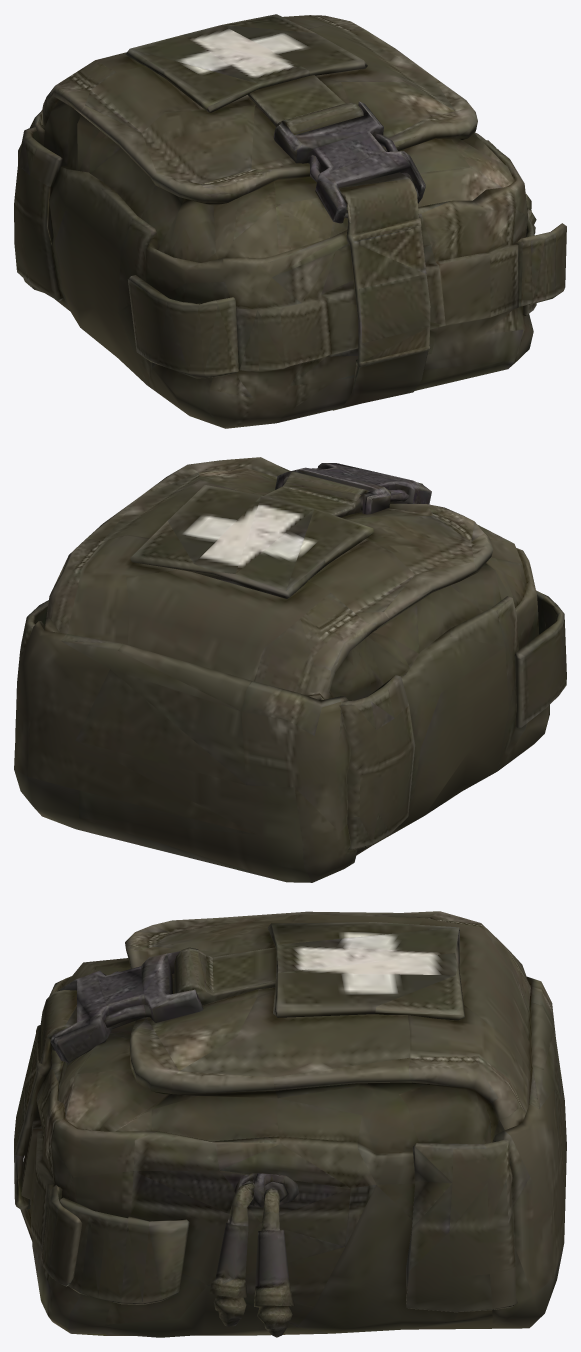
Rendered from g_medkit.glb.
3 views of the same model, one above another, from view 1: azimuth 30°, elevation 25°; view 2: azimuth 150°, elevation 25°; view 3: azimuth 270°, elevation 25° (orthographic). The views are drawn at different scales.
Bounding box in the file's own units: 0.9521 × 0.5459 × 0.8936.
Materials: 1 (1 with a texture image).
